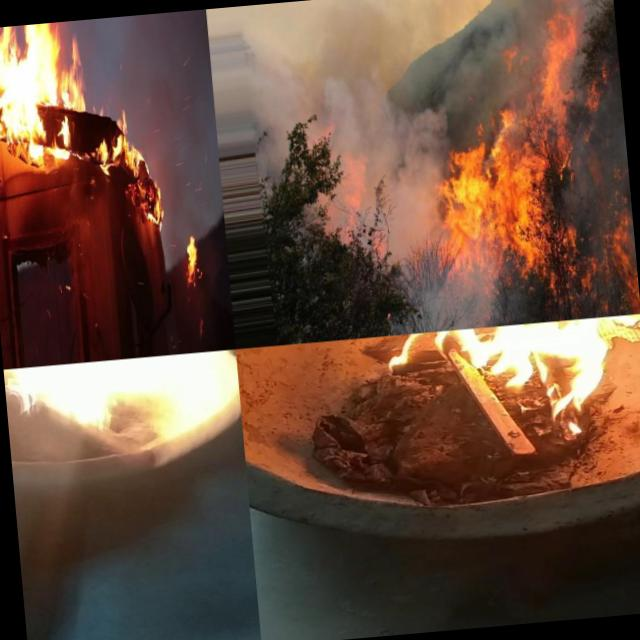fire: (365, 313, 640, 436), (442, 129, 560, 271), (3, 352, 211, 428), (0, 19, 91, 176), (557, 200, 640, 319), (538, 12, 575, 184), (497, 262, 564, 312), (86, 104, 132, 176), (130, 142, 165, 227), (495, 82, 548, 132), (178, 219, 206, 303), (560, 11, 586, 88), (585, 59, 610, 111)
smoke: (315, 0, 449, 258), (249, 64, 331, 195), (427, 0, 498, 136), (405, 266, 501, 334), (570, 119, 631, 207), (486, 0, 543, 86), (535, 0, 613, 12)
